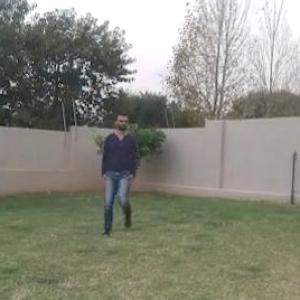follow: (101, 106, 133, 233)
